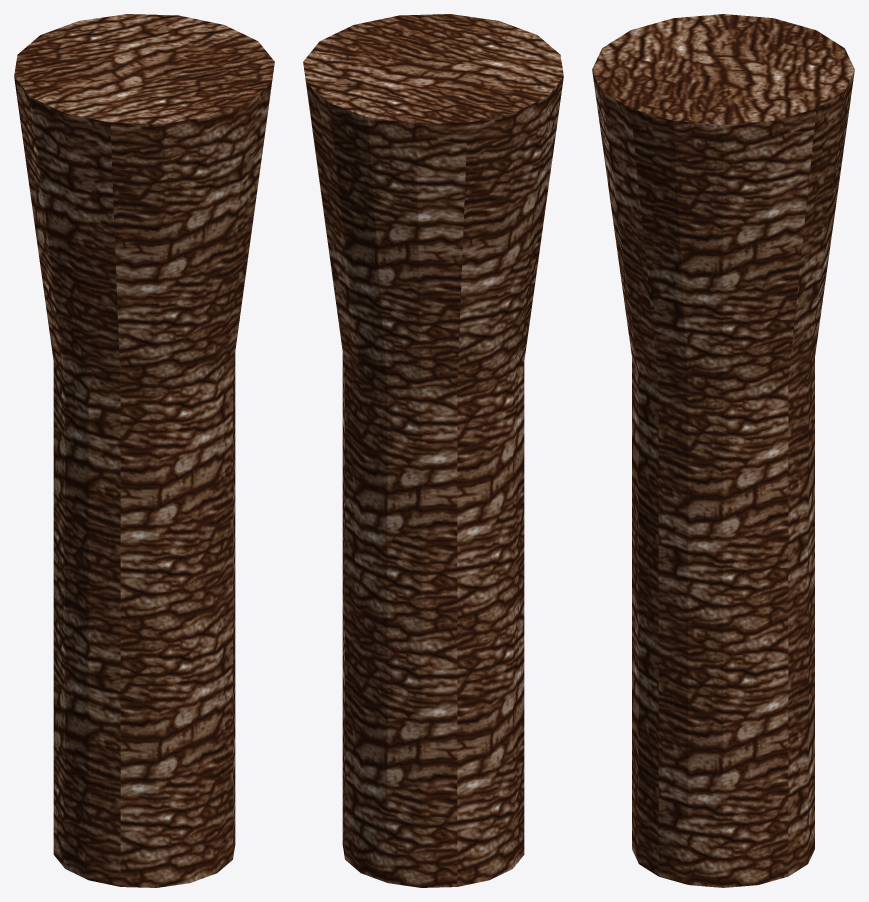
The model's file is test_torch.FBX.
3 renders of one model, left to right at view 1: azimuth 30°, elevation 25°; view 2: azimuth 150°, elevation 25°; view 3: azimuth 270°, elevation 25°, orthographic.
Parts seen in each view (by area): view 1: Cylinder001; view 2: Cylinder001; view 3: Cylinder001.
Part boxes in pixels (x1,y1,x2,y2): Cylinder001: (14, 14, 274, 887); Cylinder001: (303, 14, 563, 887); Cylinder001: (592, 14, 854, 887).
Size of the model in its own units: 7.41 by 24.27 by 7.41.
1 material, 1 textured.
